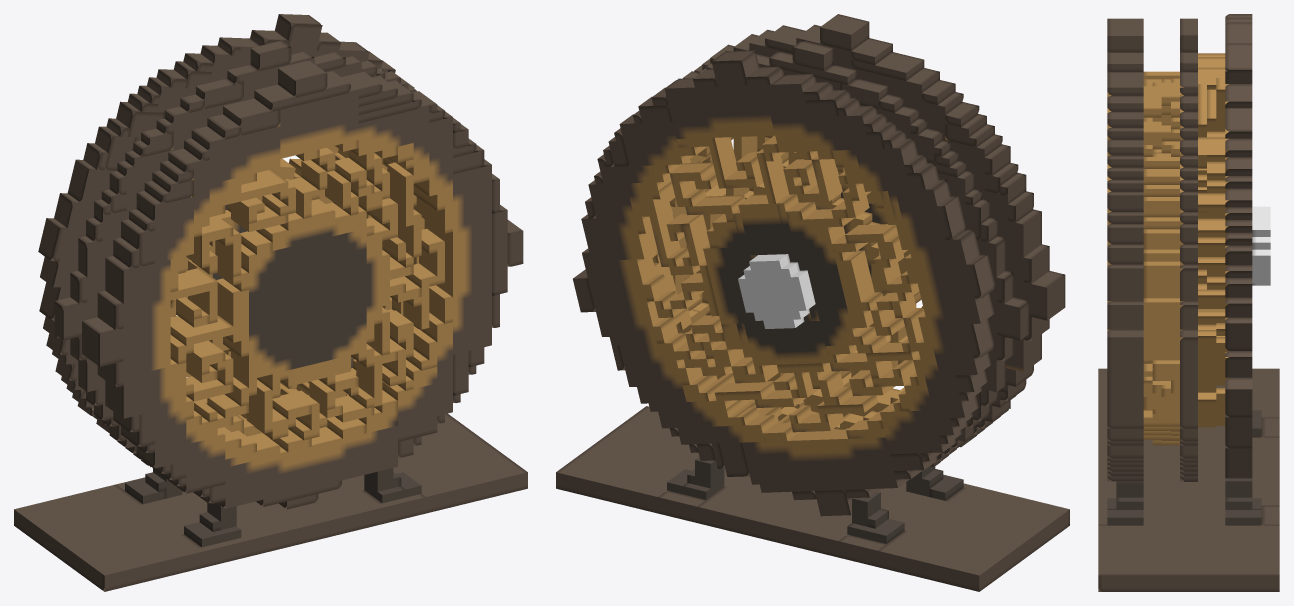
File: machine.dae
The picture shows the model from 3 angles, left to right: view 1: azimuth 30°, elevation 25°; view 2: azimuth 150°, elevation 25°; view 3: azimuth 270°, elevation 25°; orthographic projection.
Visible parts, largest first — view 1: mcine1-local, MACHINE2-local; view 2: MACHINE2-local, mcine1-local; view 3: mcine1-local, MACHINE2-local.
Part boxes in pixels (box(x1,y1,x2,y2)): mcine1-local: box(14, 40, 527, 591); MACHINE2-local: box(38, 14, 414, 432); MACHINE2-local: box(573, 50, 994, 516); mcine1-local: box(556, 14, 1069, 591); mcine1-local: box(1098, 18, 1279, 591); MACHINE2-local: box(1198, 14, 1270, 478).
Bounding box in the file's own units: 54 × 56.1 × 20.
2 materials, 2 textured.
